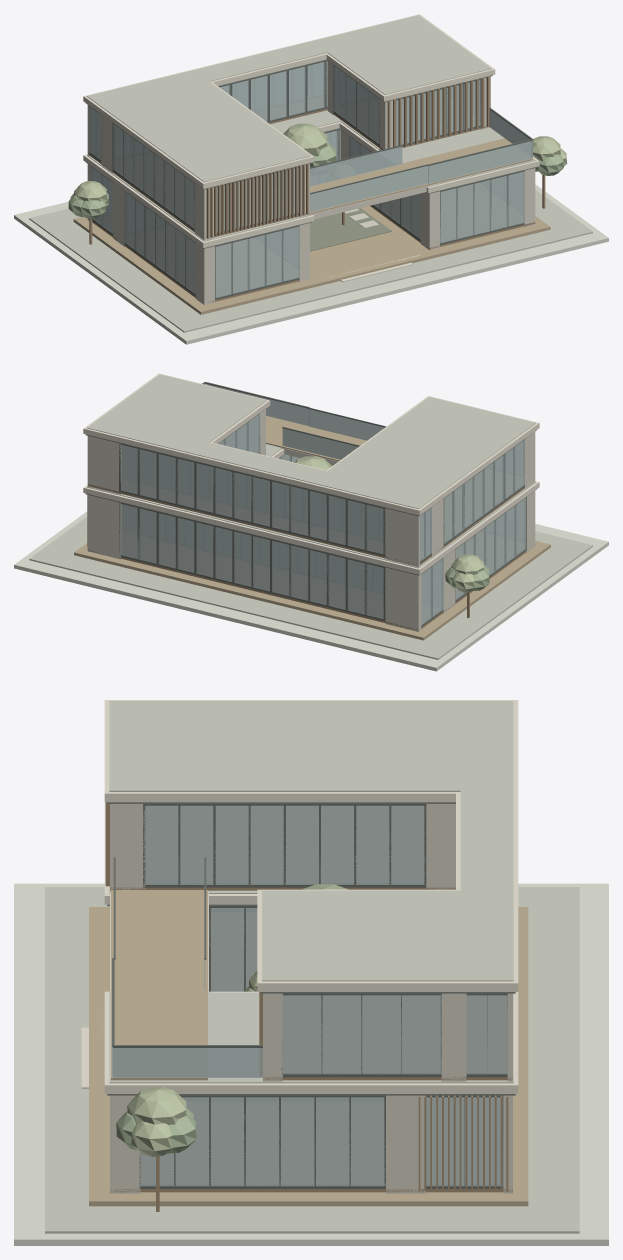
The model's file is massing.glb.
3 views of the same model, one above another, from view 1: azimuth 30°, elevation 25°; view 2: azimuth 150°, elevation 25°; view 3: azimuth 270°, elevation 25° (orthographic). The views are drawn at different scales.
Visible parts, largest first — view 1: Courtyard House; view 2: Courtyard House; view 3: Courtyard House.
Boxes of the visible parts, box(x1,y1,x2,y2) form: Courtyard House: box(14, 14, 608, 344); Courtyard House: box(14, 373, 608, 671); Courtyard House: box(14, 700, 608, 1245).
Size of the model in its own units: 21.9 by 6.52 by 15.48.
